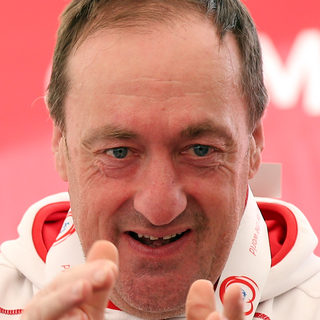eye: (168, 138, 228, 164), (91, 142, 145, 167)
